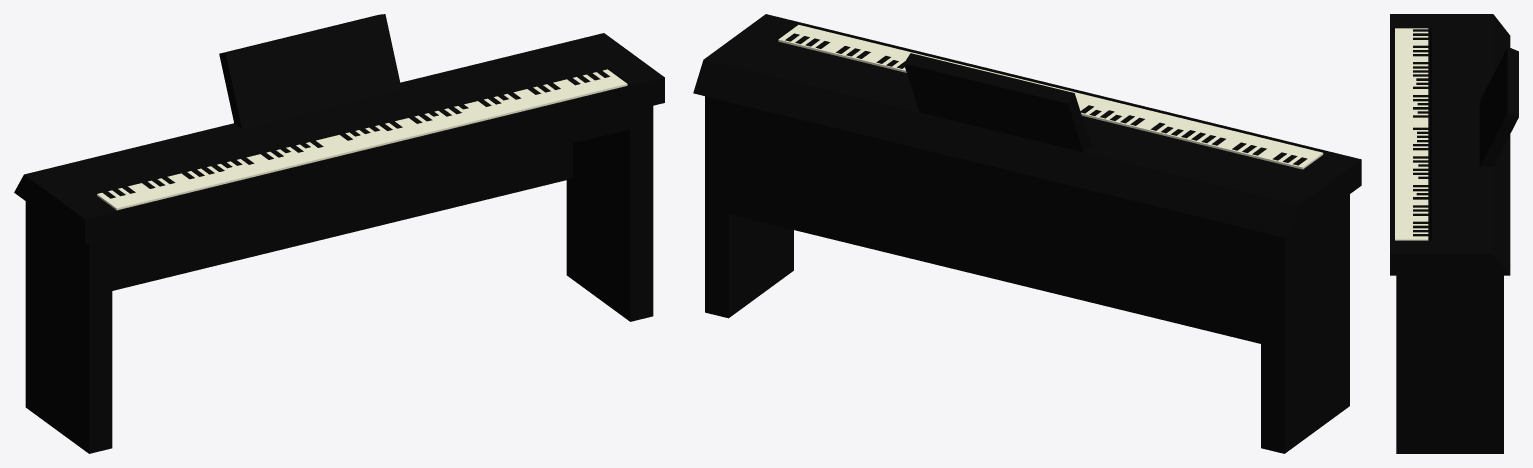
File: Piano.fbx
3 views of the same model, side by side, from view 1: azimuth 30°, elevation 25°; view 2: azimuth 150°, elevation 25°; view 3: azimuth 270°, elevation 25° (orthographic). The views are drawn at different scales.
Parts seen in each view (by area): view 1: PIANO; view 2: PIANO; view 3: PIANO.
Boxes of the visible parts, x1=… form: PIANO: x1=14, y1=14, x2=664, y2=453; PIANO: x1=693, y1=14, x2=1361, y2=453; PIANO: x1=1390, y1=14, x2=1518, y2=453.
Bounding box in the file's own units: 324 × 162 × 73.31.
